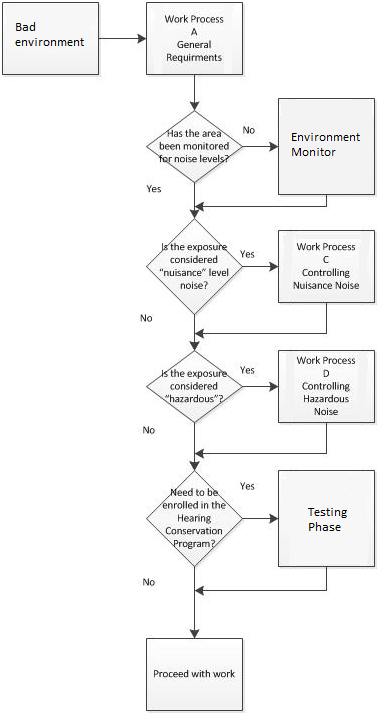arrow: (193, 420, 333, 461), (196, 300, 330, 339), (194, 563, 331, 596), (194, 196, 333, 212), (189, 567, 201, 638), (188, 420, 204, 469), (242, 257, 281, 275), (187, 311, 204, 350), (97, 32, 147, 45), (237, 379, 280, 394), (188, 72, 203, 112), (237, 513, 280, 526), (190, 180, 203, 215), (235, 142, 279, 152)
decision: (144, 214, 246, 315), (142, 468, 245, 568), (143, 349, 249, 425), (142, 110, 246, 185)
process: (275, 467, 379, 572), (275, 95, 377, 199), (142, 635, 251, 715), (274, 226, 378, 305), (143, 1, 246, 80), (276, 347, 379, 425), (1, 1, 103, 77)
text: (292, 352, 360, 419), (160, 485, 228, 550), (291, 239, 365, 293), (156, 240, 231, 292), (158, 10, 226, 64), (157, 127, 234, 165), (159, 368, 226, 407), (13, 19, 87, 49), (289, 130, 363, 158), (304, 502, 351, 536), (151, 665, 240, 682), (237, 477, 262, 493), (139, 573, 158, 592), (143, 180, 164, 196), (139, 420, 156, 438), (238, 363, 256, 379), (138, 309, 157, 324), (237, 247, 255, 260), (241, 124, 257, 135)
